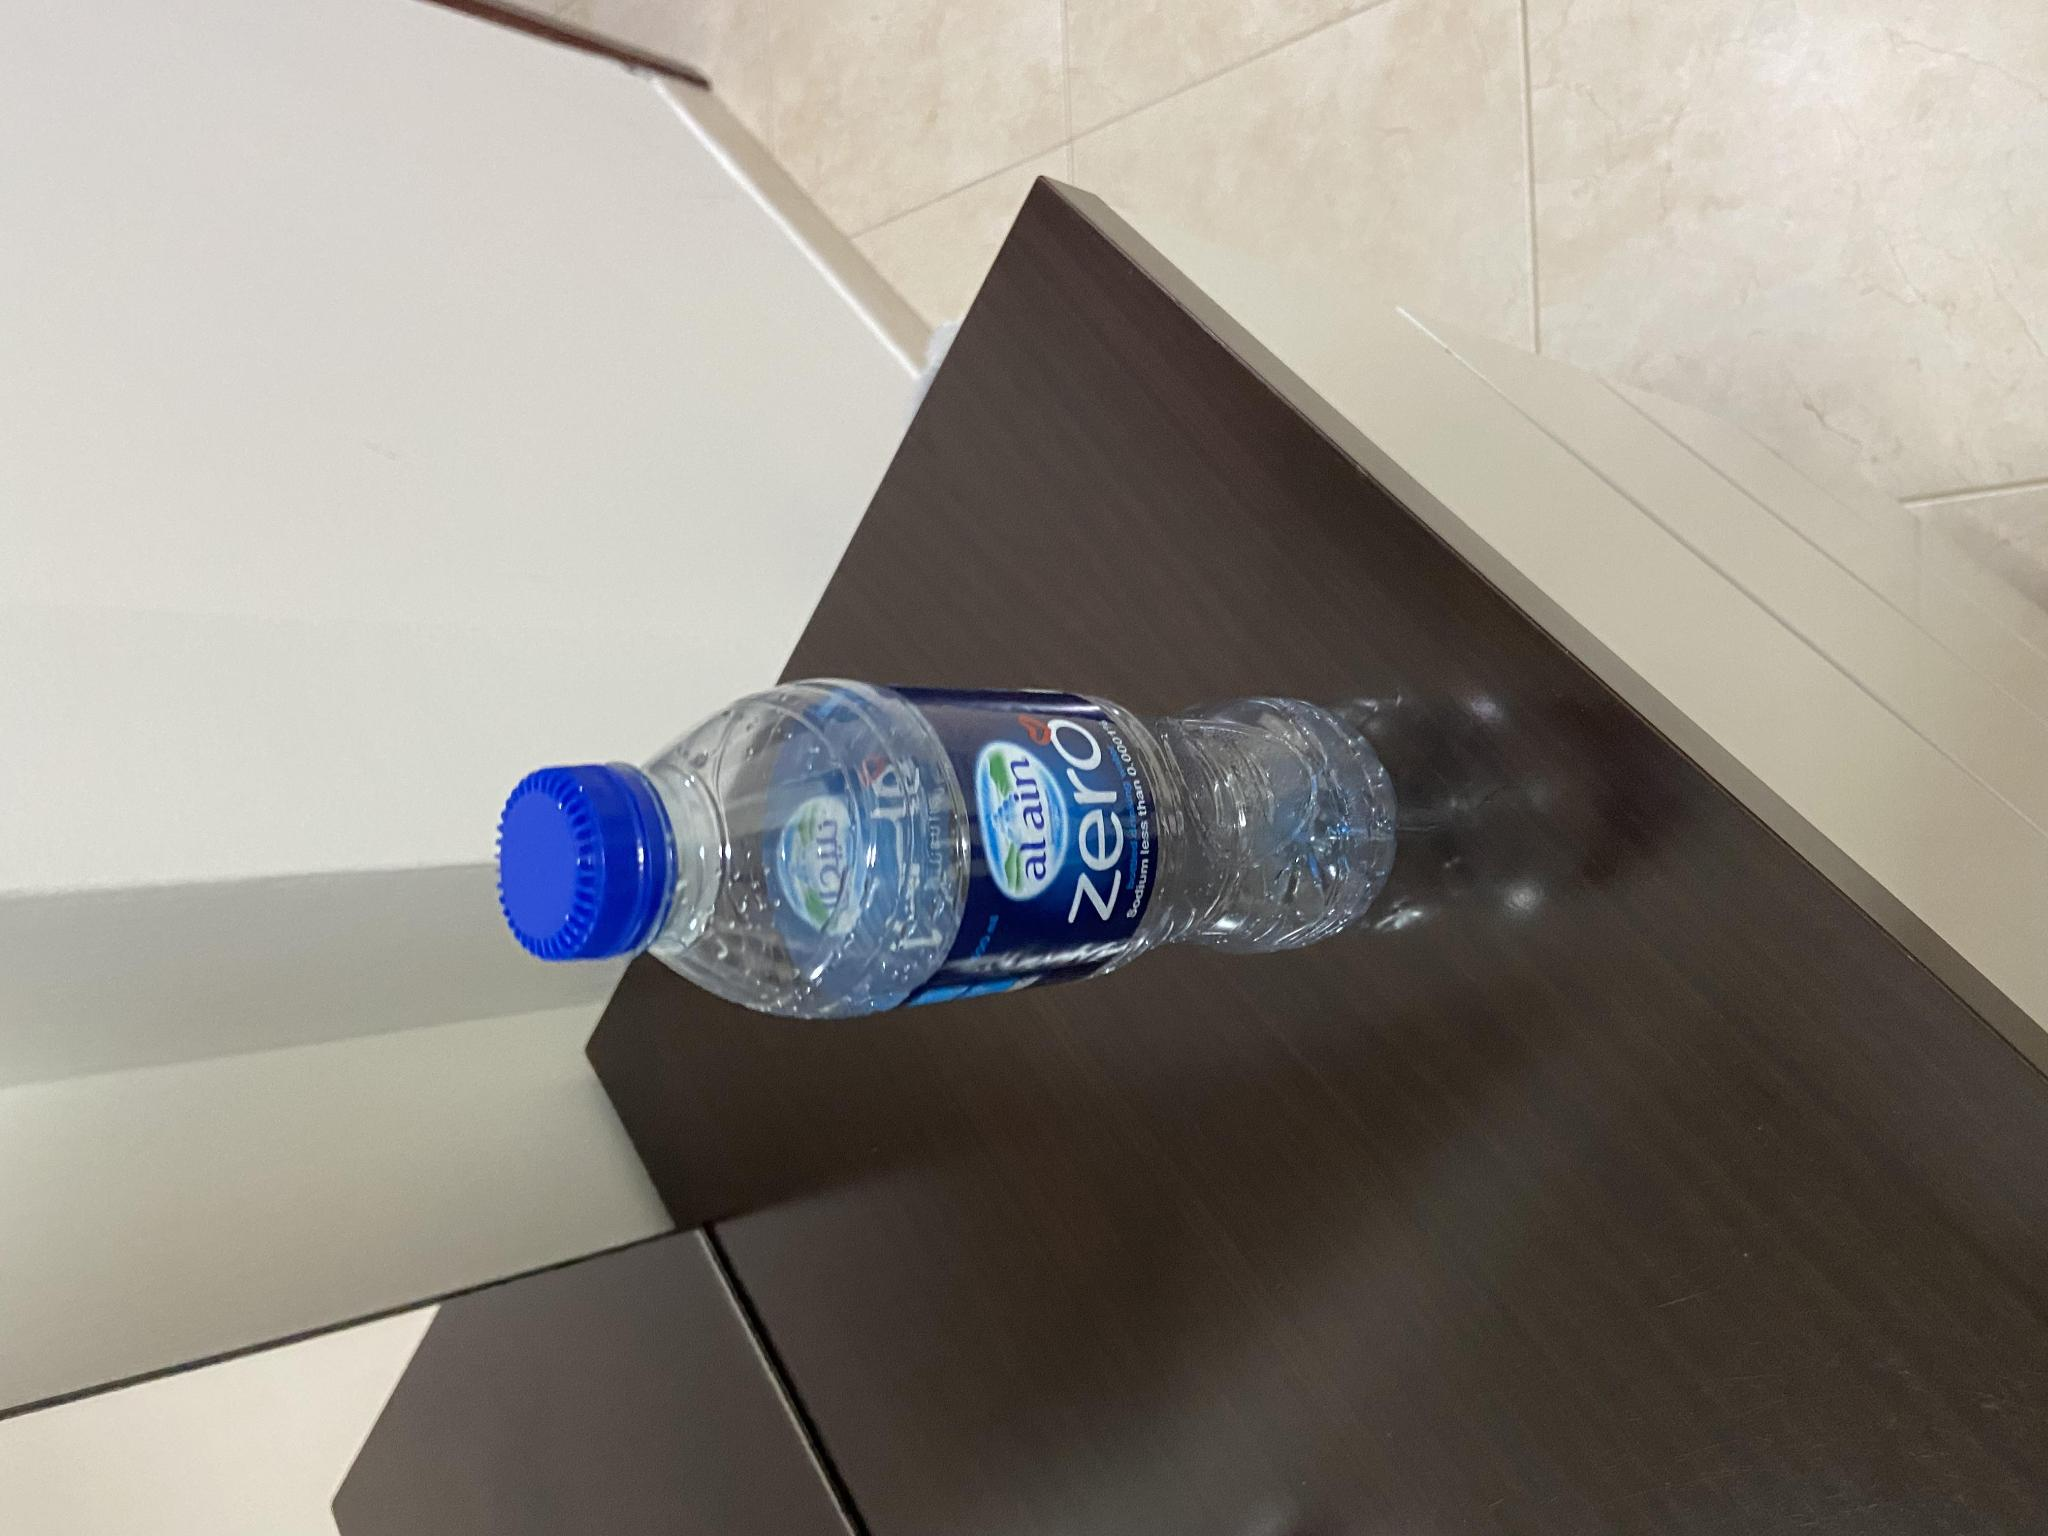bottle: (658, 347, 1174, 1068)
